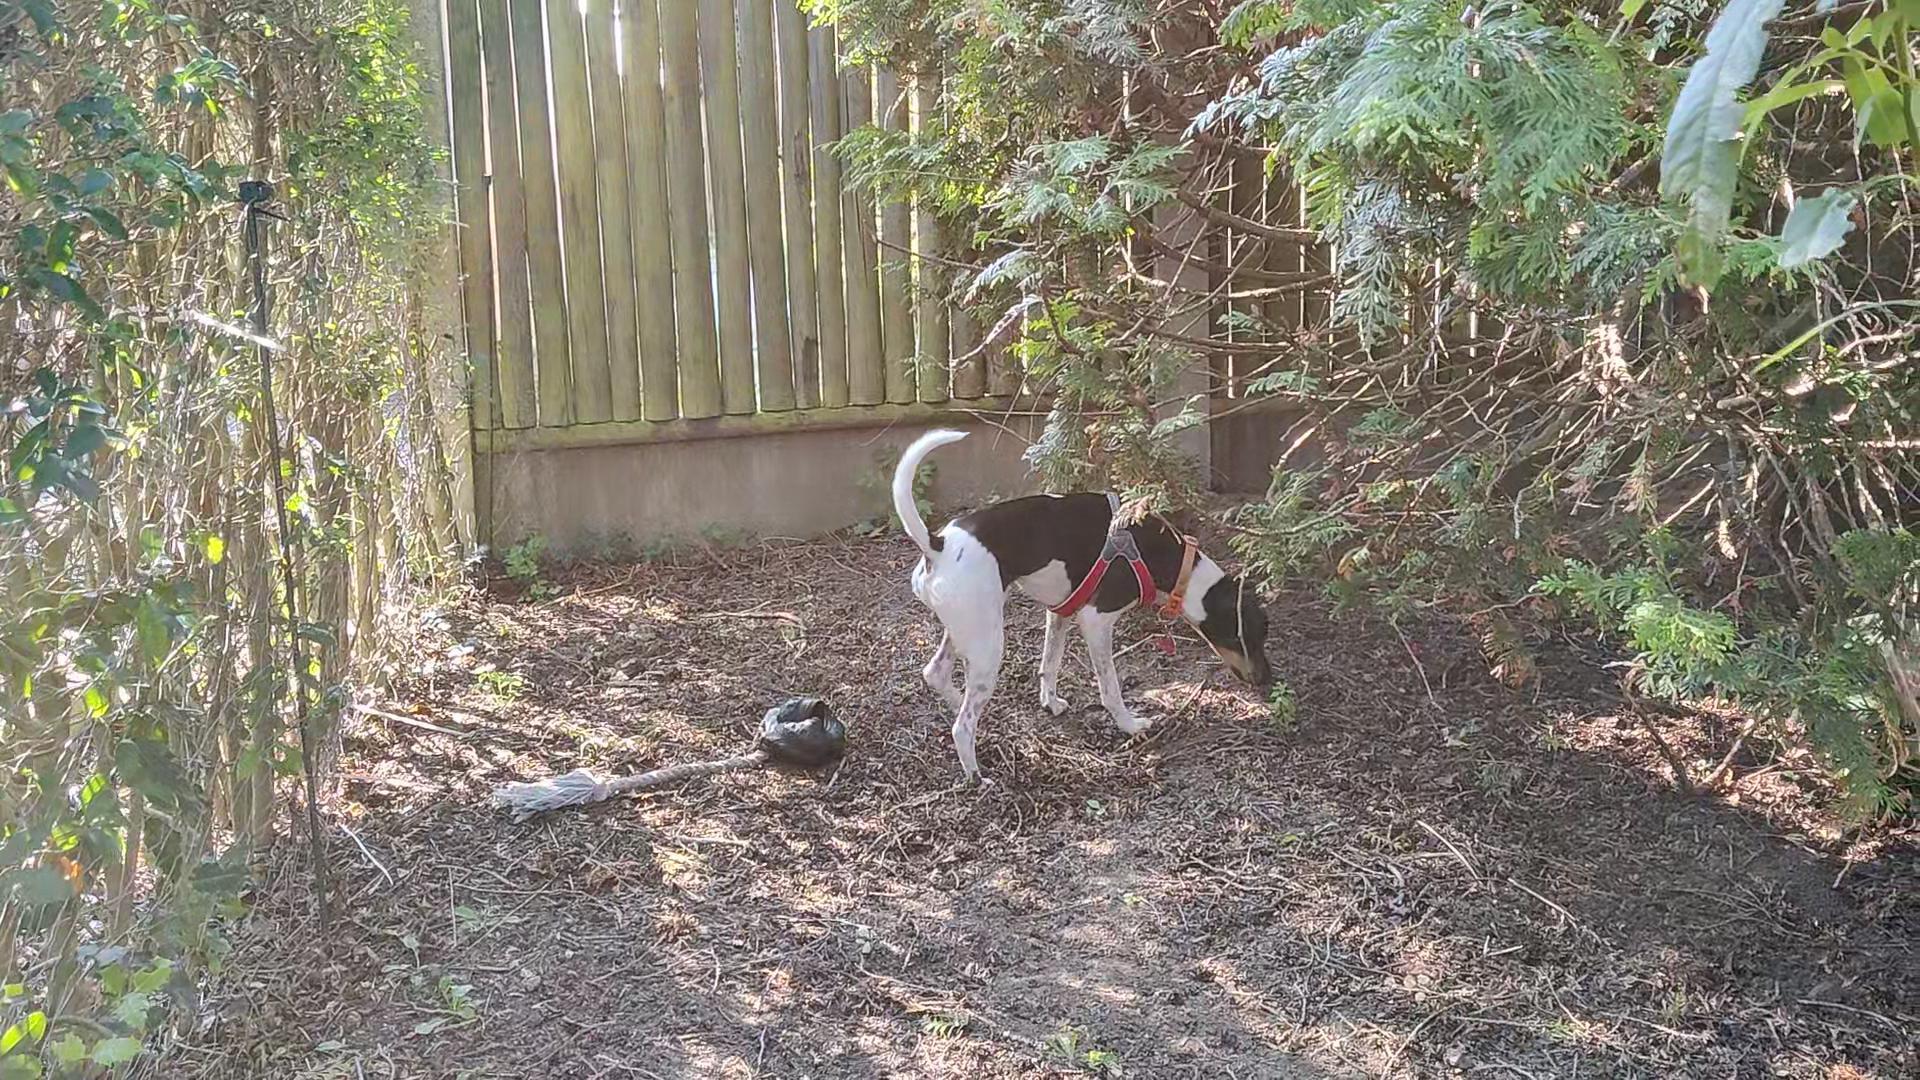Dog: (886, 417, 1280, 790)
